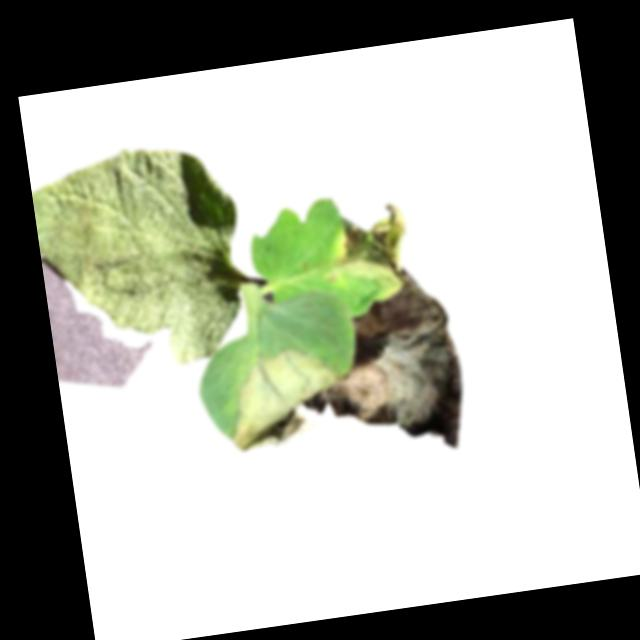Late_blight: (285, 259, 473, 470), (218, 342, 348, 459), (337, 200, 412, 290)
